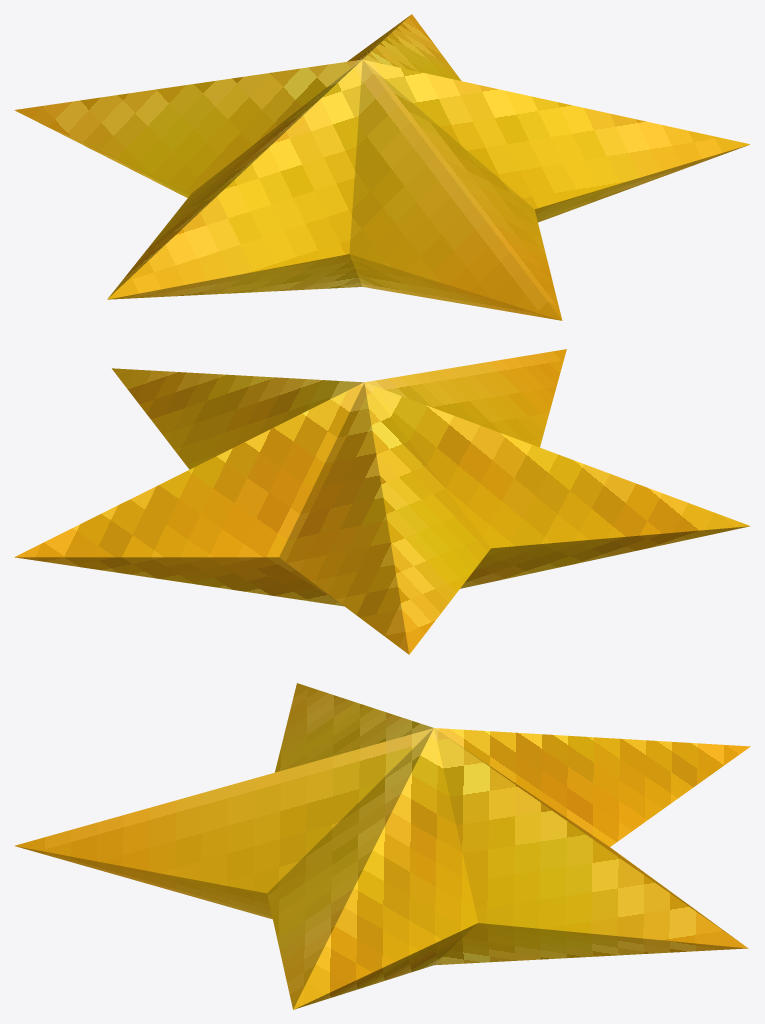
Rendered from hstar.glb.
3 views of the same model, one above another, from view 1: azimuth 30°, elevation 25°; view 2: azimuth 150°, elevation 25°; view 3: azimuth 270°, elevation 25° (orthographic). The views are drawn at different scales.
Parts seen in each view (by area): view 1: model_hstar; view 2: model_hstar; view 3: model_hstar.
Part boxes in pixels (<box>): model_hstar: <box>14,14,750,320</box>; model_hstar: <box>14,349,750,654</box>; model_hstar: <box>14,683,750,1009</box>.
Bounding box in the file's own units: 0.0854 × 0.0289 × 0.0814.
Materials: 1 (1 with a texture image).
